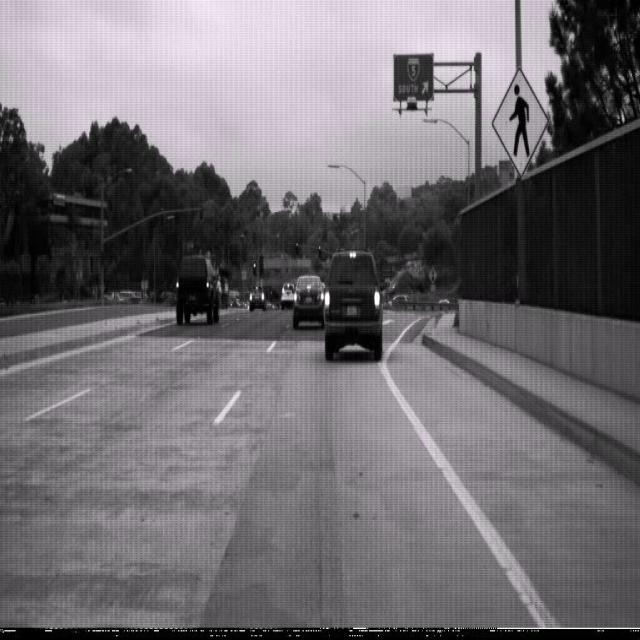pedestrianCrossing: (490, 65, 550, 178)
